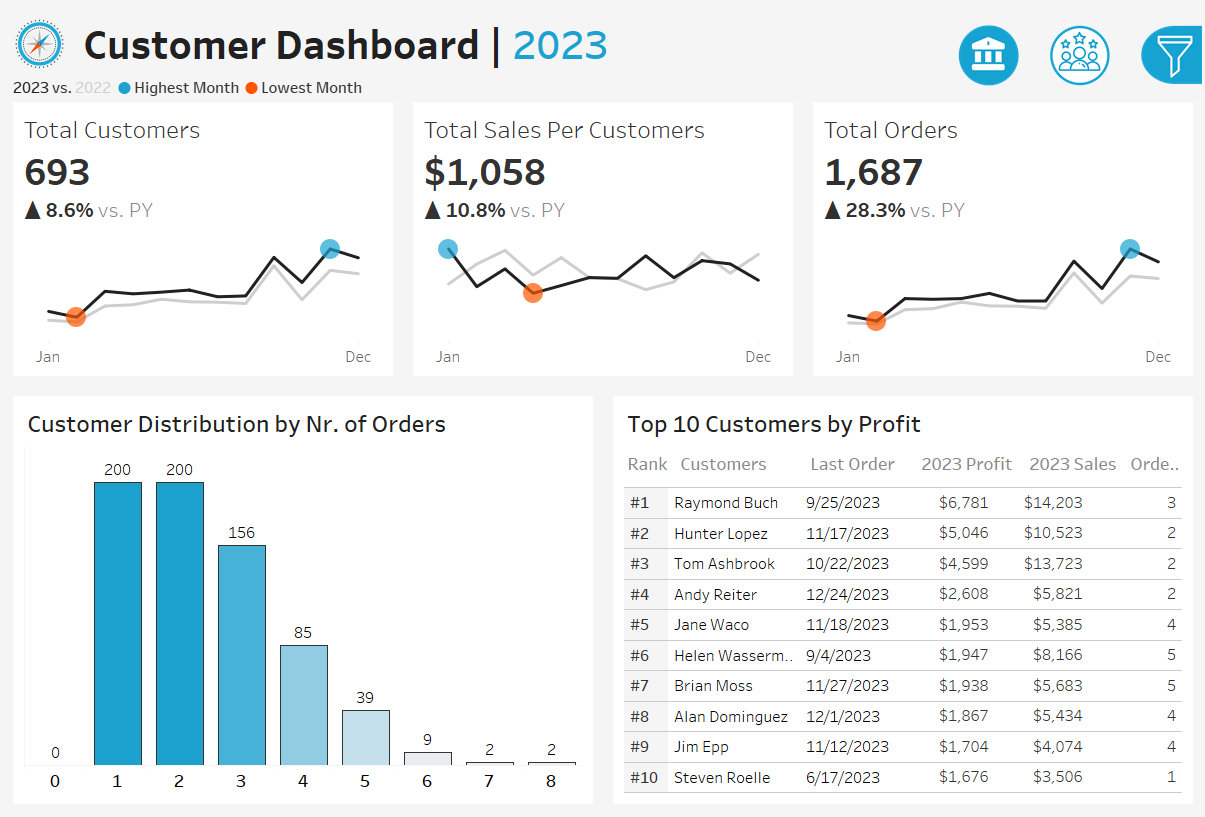

This screenshot's page, from the dashboard's own definition file:
{"tool":"tableau","page":{"name":"Customer Dashboard","canvas":[1200,800],"ordinal":0},"visuals":[{"type":"image","param":"Image/Icon - Logo.png","box":[0,0,73,59]},{"type":"text","box":[73,0,820,59]},{"type":"dashboard-object","box":[940,6,91,70]},{"type":"dashboard-object","box":[1031,6,91,70]},{"type":"blank","box":[952,10,237,86]},{"type":"worksheet","title":"Legend KPI","mark":"Automatic","box":[0,59,1200,29]},{"type":"worksheet","title":"KPI Customers","mark":"Automatic","rows":["Min/Max Quantity (copy)_3221481164588691468"],"cols":["Order Date"],"box":[0,88,400,284]},{"type":"worksheet","title":"KPI Sales Per Customers","mark":"Automatic","rows":["Min/Max Quantity (copy)_3221481164537155591"],"cols":["Order Date"],"box":[400,88,400,284]},{"type":"worksheet","title":"KPI Orders","mark":"Automatic","rows":["Min/Max Sales (copy)_3221481164601258003"],"cols":["Order Date"],"box":[800,88,400,284]},{"type":"text","box":[952,96,237,40]},{"type":"parameter","param":"[Parameters].[Parameter 1]","box":[952,136,237,56]},{"type":"text","box":[952,192,237,33]},{"type":"filter","title":"KPI Customers","param":"[federated.1kpxa041aiai2y1cl4pui1t4eju9].[none:Category:nk]","box":[952,225,237,61]},{"type":"filter","title":"KPI Customers","param":"[federated.1kpxa041aiai2y1cl4pui1t4eju9].[none:Sub-Category:nk]","box":[952,286,237,61]},{"type":"blank","box":[952,347,237,60]},{"type":"text","box":[17,389,566,40]},{"type":"text","box":[617,389,566,40]},{"type":"text","box":[952,407,237,33]},{"type":"worksheet","title":"Customer Distribution","mark":"Bar","rows":["CY Sales (copy)_3221481164532666369"],"cols":["Calculation_998110323739992064"],"box":[17,429,566,354]},{"type":"text","box":[617,429,53,40]},{"type":"text","box":[670,429,130,40]},{"type":"text","box":[800,429,100,40]},{"type":"text","box":[900,429,106,40]},{"type":"text","box":[1006,429,110,40]},{"type":"text","box":[1116,429,67,40]},{"type":"filter","title":"KPI Customers","param":"[federated.1kpxa041aiai2y1cl4pui1t4eju9].[none:Region:nk]","box":[952,440,237,61]},{"type":"worksheet","title":"Top Customers","mark":"Automatic","rows":["Calculation_782500491678904334","Customer Name","Order Date"],"box":[617,469,566,314]},{"type":"filter","title":"KPI Customers","param":"[federated.1kpxa041aiai2y1cl4pui1t4eju9].[none:State:nk]","box":[952,501,237,61]},{"type":"filter","title":"KPI Customers","param":"[federated.1kpxa041aiai2y1cl4pui1t4eju9].[none:City:nk]","box":[952,562,237,61]}]}

Visuals, with their boxes in screenshot pixels (x1, y1, x2, y2), scaled from the page's 1200x800 canvas onto the 1205x817 screenshot:
image: [0, 0, 73, 60]
text: [73, 0, 897, 60]
dashboard-object: [944, 6, 1035, 78]
dashboard-object: [1035, 6, 1127, 78]
blank: [956, 10, 1194, 98]
"Legend KPI" worksheet: [0, 60, 1204, 90]
"KPI Customers" worksheet: [0, 90, 402, 380]
"KPI Sales Per Customers" worksheet: [402, 90, 803, 380]
"KPI Orders" worksheet: [803, 90, 1204, 380]
text: [956, 98, 1194, 139]
parameter: [956, 139, 1194, 196]
text: [956, 196, 1194, 230]
"KPI Customers" filter: [956, 230, 1194, 292]
"KPI Customers" filter: [956, 292, 1194, 354]
blank: [956, 354, 1194, 416]
text: [17, 397, 585, 438]
text: [620, 397, 1188, 438]
text: [956, 416, 1194, 449]
"Customer Distribution" worksheet (Bar marks): [17, 438, 585, 800]
text: [620, 438, 673, 479]
text: [673, 438, 803, 479]
text: [803, 438, 904, 479]
text: [904, 438, 1010, 479]
text: [1010, 438, 1121, 479]
text: [1121, 438, 1188, 479]
"KPI Customers" filter: [956, 449, 1194, 512]
"Top Customers" worksheet: [620, 479, 1188, 800]
"KPI Customers" filter: [956, 512, 1194, 574]
"KPI Customers" filter: [956, 574, 1194, 636]
